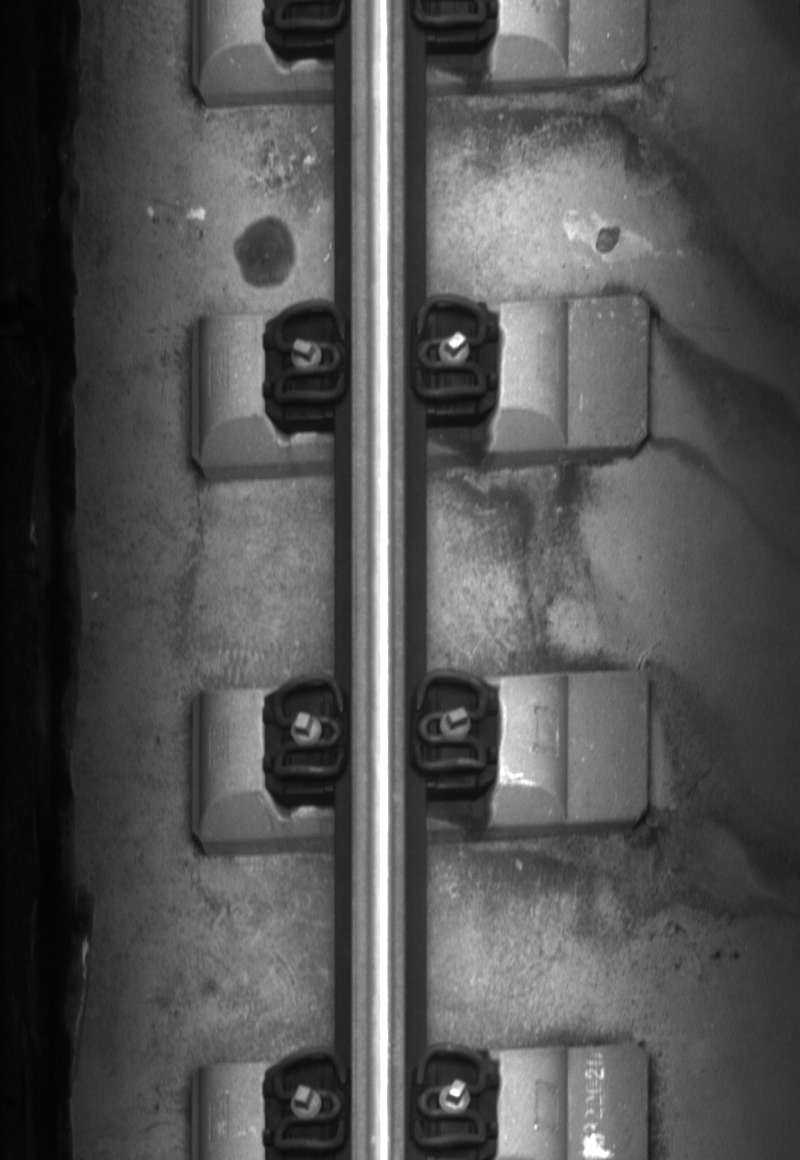l_faster: (266, 1041, 349, 1158), (267, 296, 350, 411), (267, 669, 349, 784)
r_faster: (408, 1036, 494, 1153), (410, 291, 491, 404), (410, 668, 493, 778)
